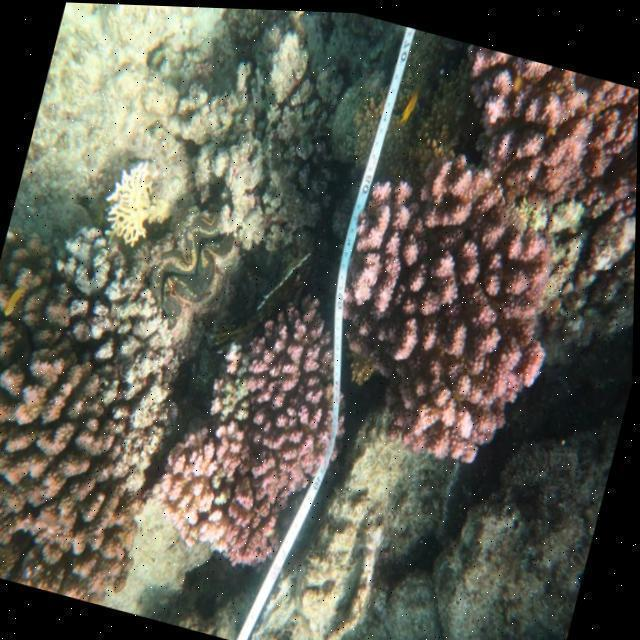Healthy Coral: (371, 194, 555, 463)
